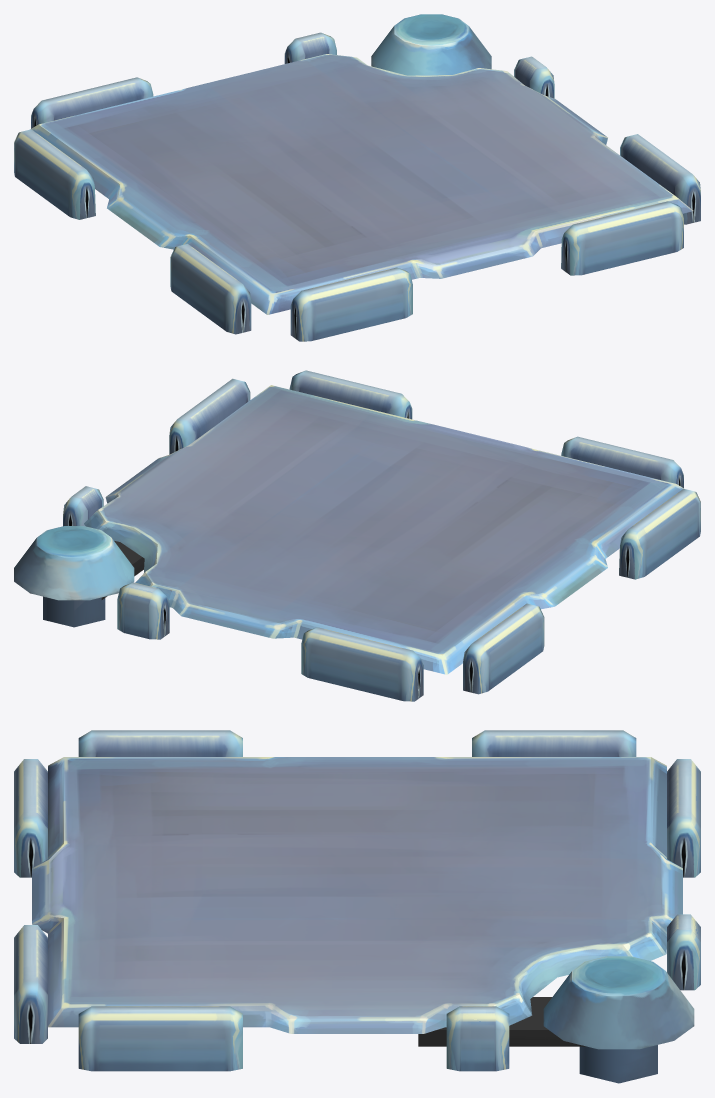
File: Component_PuzzleBackground.fbx
3 views of the same model, one above another, from view 1: azimuth 30°, elevation 25°; view 2: azimuth 150°, elevation 25°; view 3: azimuth 270°, elevation 25° (orthographic). The views are drawn at different scales.
Parts seen in each view (by area): view 1: Component_PuzzleBackground; view 2: Component_PuzzleBackground; view 3: Component_PuzzleBackground.
Boxes of the visible parts, x1=… form: Component_PuzzleBackground: x1=14, y1=14, x2=700, y2=341; Component_PuzzleBackground: x1=14, y1=370, x2=700, y2=701; Component_PuzzleBackground: x1=14, y1=730, x2=700, y2=1083.
Bounding box in the file's own units: 200 × 29.33 × 200.
